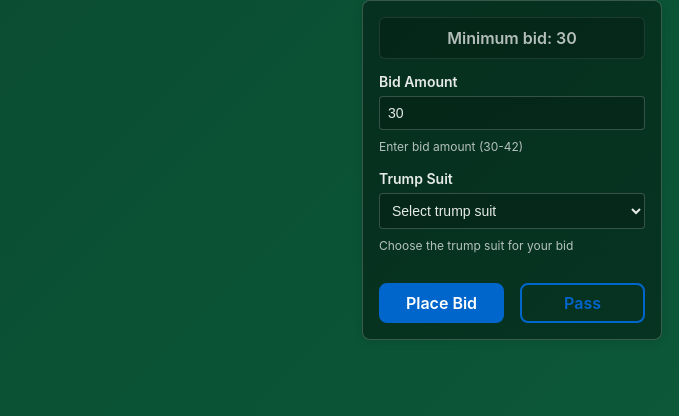
Scenario: BiddingPanel › Bid Validation › shows error when trump suit not selected for valid bid
Step 1. Click the button "Place Bid" → [442, 303], box [379,283,504,323]
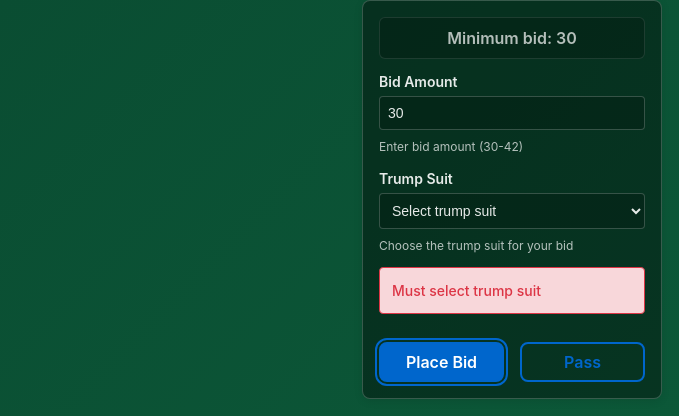
Expected: the text "Must select trump suit" is shown, [379,267,645,314]
